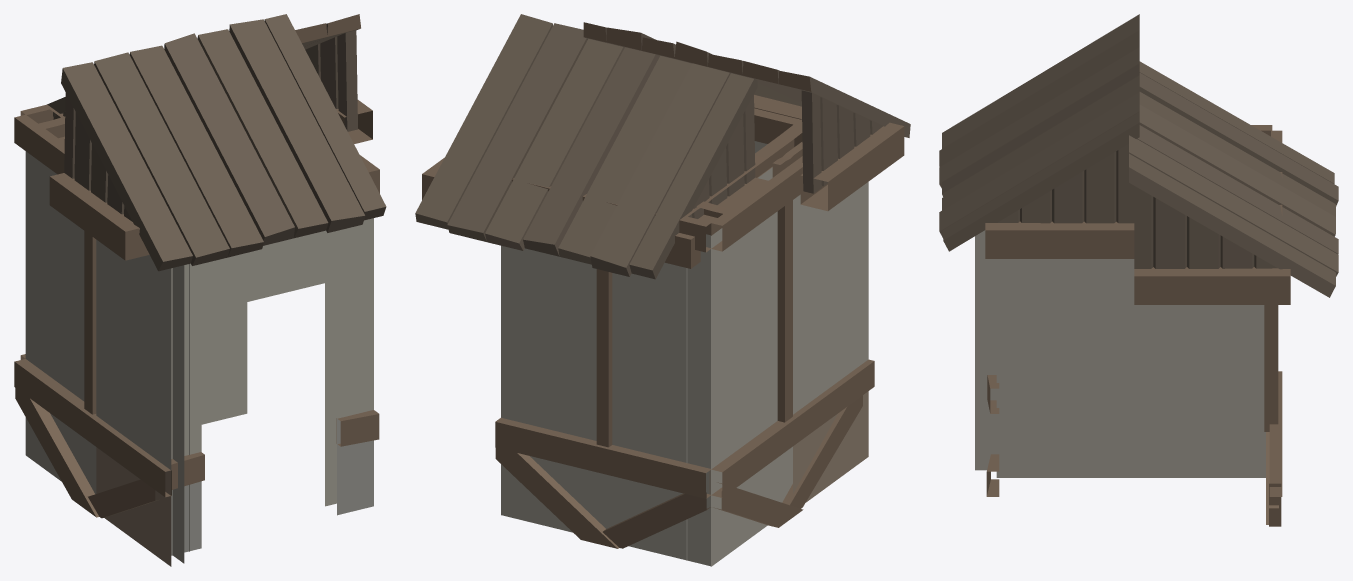
File: camp.glb
3 renders of one model, left to right at view 1: azimuth 30°, elevation 25°; view 2: azimuth 150°, elevation 25°; view 3: azimuth 270°, elevation 25°, orthographic. The views are drawn at different scales.
Parts seen in each view (by area): view 1: MoyoSilhouetteOpenSide:4, authored:building-shell-camp:plaster:2, authored:building-shell-camp:door:0, MoyoSilhouetteOpenSide:3, authored:building-shell-camp:plaster:1, MoyoSilhouetteOpenSide:5; view 2: MoyoSilhouetteOpenSide:5, authored:building-shell-camp:plaster:1, authored:building-shell-camp:plaster:2, MoyoSilhouetteOpenSide:4, MoyoSilhouetteOpenSide:3, authored:building-shell-camp:door:0; view 3: authored:building-shell-camp:plaster:2, MoyoSilhouetteOpenSide:5, MoyoSilhouetteOpenSide:4, MoyoSilhouetteOpenSide:3, authored:building-shell-camp:plaster:1, authored:building-shell-camp:door:0.
Boxes of the visible parts, x1,y1,x2,y2 form: MoyoSilhouetteOpenSide:4: (49, 14, 386, 271); authored:building-shell-camp:plaster:2: (14, 108, 189, 551); authored:building-shell-camp:door:0: (171, 218, 379, 555); MoyoSilhouetteOpenSide:3: (90, 240, 184, 566); authored:building-shell-camp:plaster:1: (20, 104, 247, 424); MoyoSilhouetteOpenSide:5: (47, 14, 372, 143); MoyoSilhouetteOpenSide:5: (415, 14, 768, 279); authored:building-shell-camp:plaster:1: (495, 178, 729, 566); authored:building-shell-camp:plaster:2: (684, 119, 862, 566); MoyoSilhouetteOpenSide:4: (583, 22, 910, 211); MoyoSilhouetteOpenSide:3: (772, 142, 874, 502); authored:building-shell-camp:door:0: (754, 108, 802, 153); authored:building-shell-camp:plaster:2: (996, 125, 1272, 477); MoyoSilhouetteOpenSide:5: (1129, 61, 1338, 304); MoyoSilhouetteOpenSide:4: (939, 14, 1139, 258); MoyoSilhouetteOpenSide:3: (975, 230, 996, 470); authored:building-shell-camp:plaster:1: (1264, 130, 1282, 526); authored:building-shell-camp:door:0: (986, 231, 999, 496).
Bounding box in the file's own units: 3.09 × 4.09 × 3.36.
